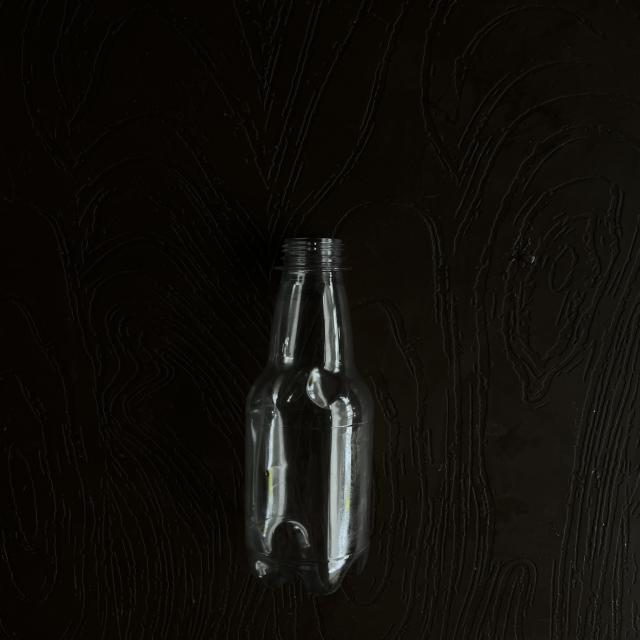PET_ClearBottle: (242, 237, 389, 597)
